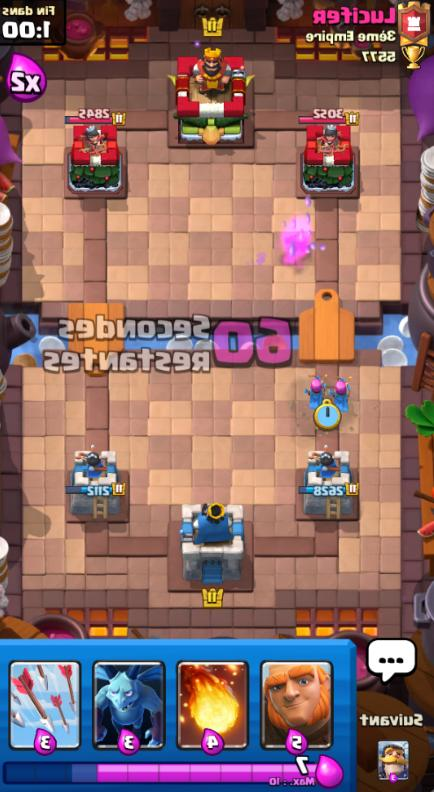archere: (328, 372, 355, 416), (301, 372, 329, 412)
